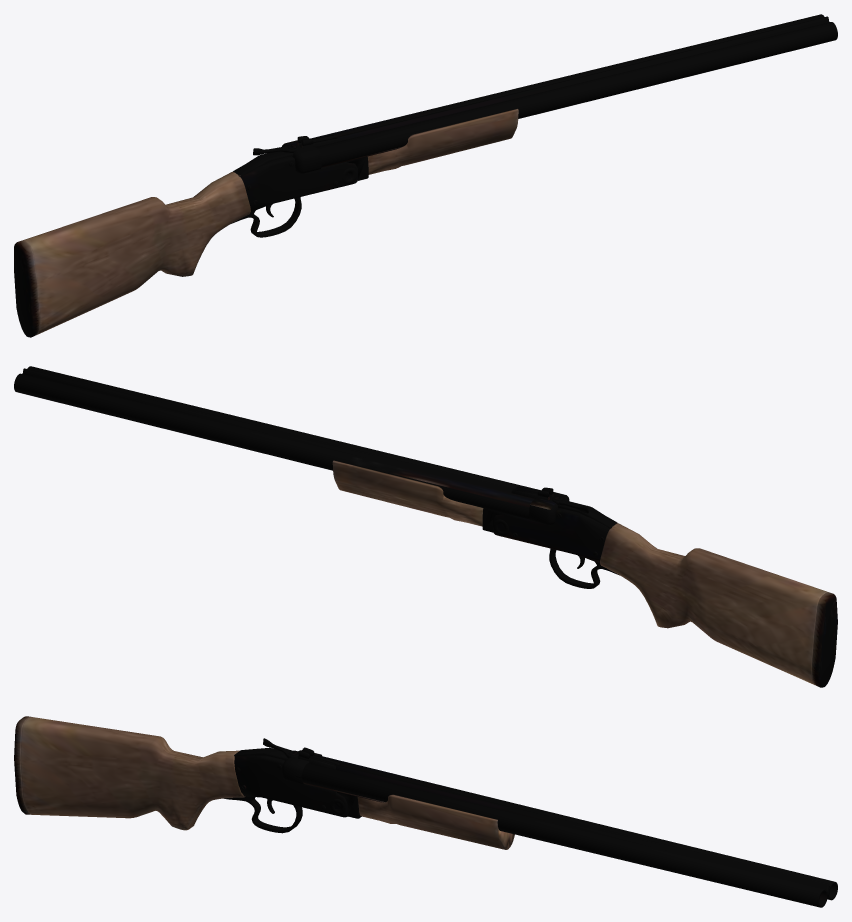
File: career_test1_glb.glb
The picture shows the model from 3 angles, top to bottom: view 1: azimuth 30°, elevation 25°; view 2: azimuth 150°, elevation 25°; view 3: azimuth 330°, elevation 25°; orthographic projection.
Parts seen in each view (by area): view 1: Empty; view 2: Empty; view 3: Empty.
Boxes of the visible parts, left/top/right/bottom form: Empty: left=14, top=14, right=837, bottom=337; Empty: left=14, top=366, right=837, bottom=687; Empty: left=14, top=716, right=837, bottom=907.
Bounding box in the file's own units: 10.03 × 1.55 × 0.5063.
Materials: 1 (1 with a texture image).
